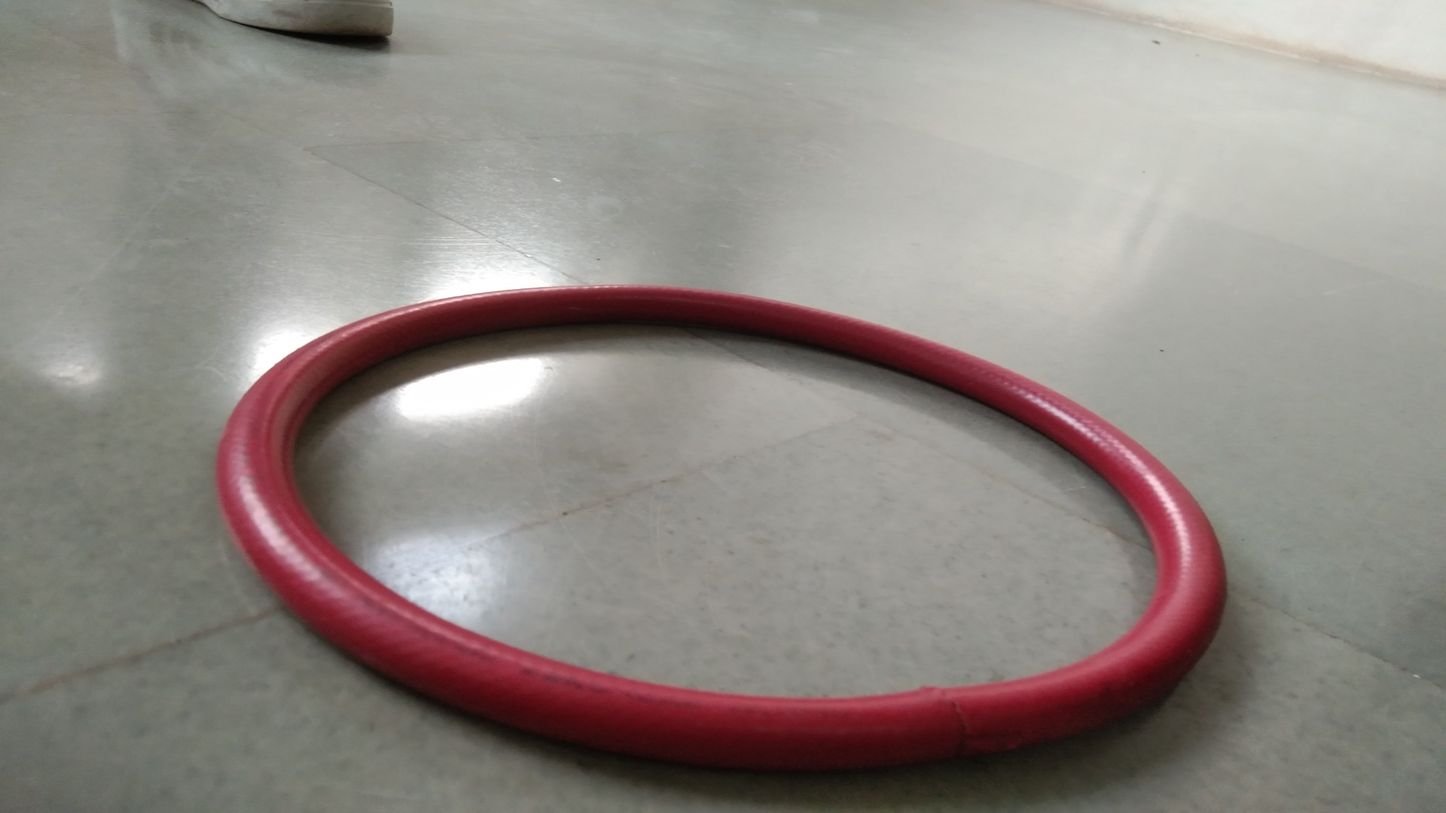Red ring: (219, 284, 1232, 766)
